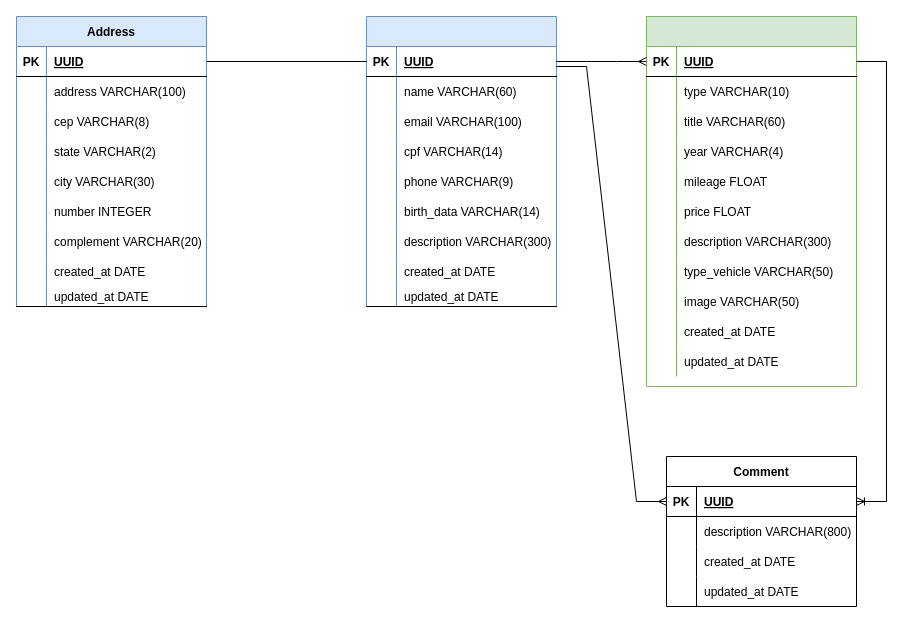
The diagram is 903 pixels wide and 623 high, and some of its shapes have lost their labels. Here are the shapes that lost their labels. From the top down, the box of each, then its label:
(366, 16, 556, 306): User
(646, 16, 856, 386): announcement
